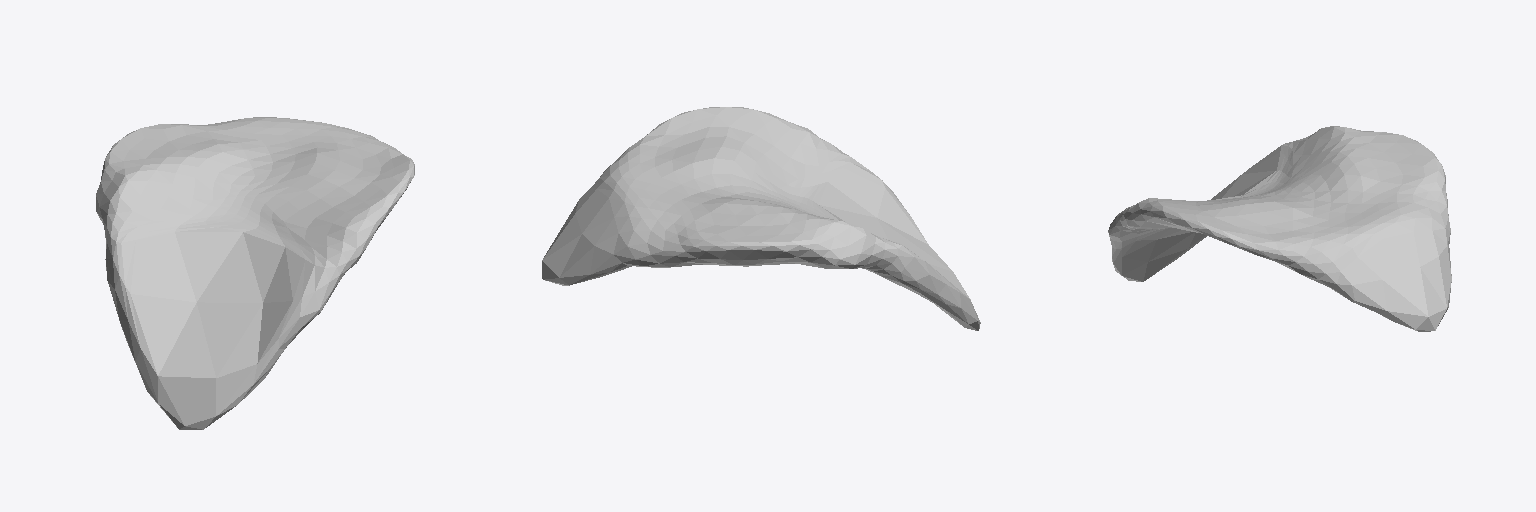
The model's file is basilLeaf.obj.
3 renders of one model, left to right at view 1: azimuth 30°, elevation 25°; view 2: azimuth 150°, elevation 25°; view 3: azimuth 270°, elevation 25°, orthographic.
Bounding box in the file's own units: 0.6358 × 0.3456 × 0.6024.